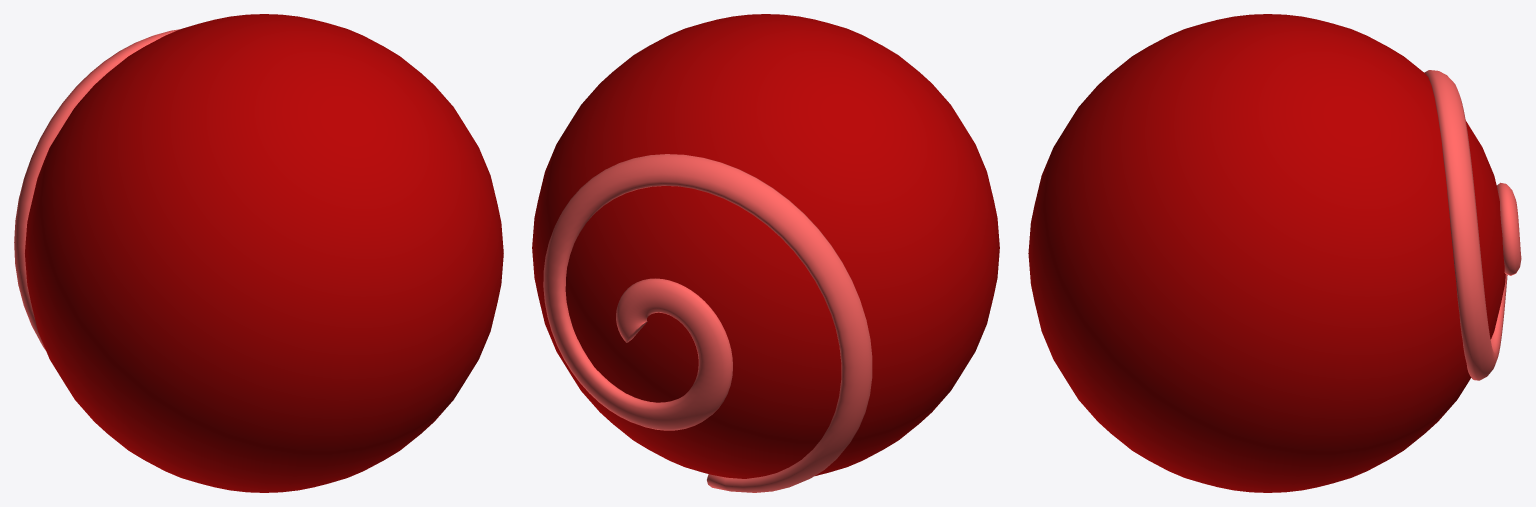
File: Buzzball.glb
The picture shows the model from 3 angles, left to right: view 1: azimuth 30°, elevation 25°; view 2: azimuth 150°, elevation 25°; view 3: azimuth 270°, elevation 25°; orthographic projection. The views are drawn at different scales.
Visible parts, largest first — view 1: Body, Fin; view 2: Body, Fin; view 3: Body, Fin.
Boxes of the visible parts, <box> form: Body: <box>25,14,503,492</box>; Fin: <box>14,29,179,350</box>; Body: <box>532,14,999,478</box>; Fin: <box>543,154,872,492</box>; Body: <box>1028,14,1505,492</box>; Fin: <box>1424,70,1521,380</box>.
Bounding box in the file's own units: 1.54 × 1.54 × 1.59.
1 material, 1 textured.
